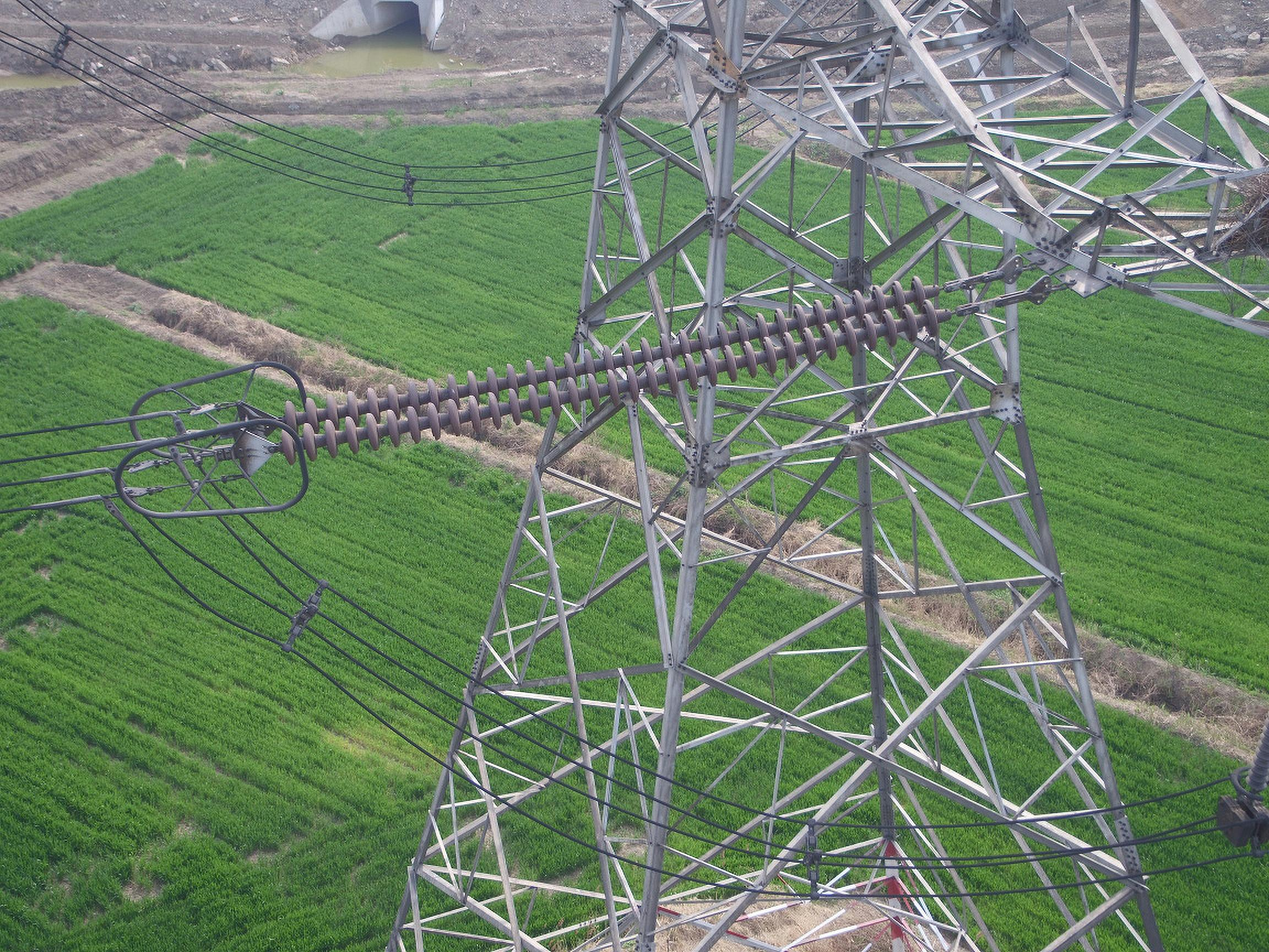insulator: (274, 271, 946, 468), (1238, 707, 1269, 801)
